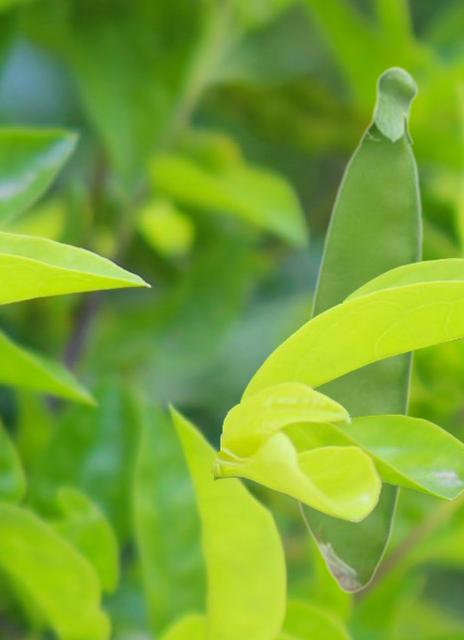pea: (295, 64, 423, 593)
